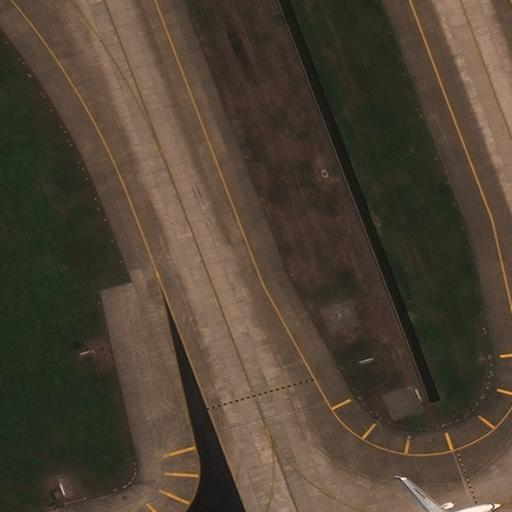Medium Civil Transport: (387, 476, 500, 511)
